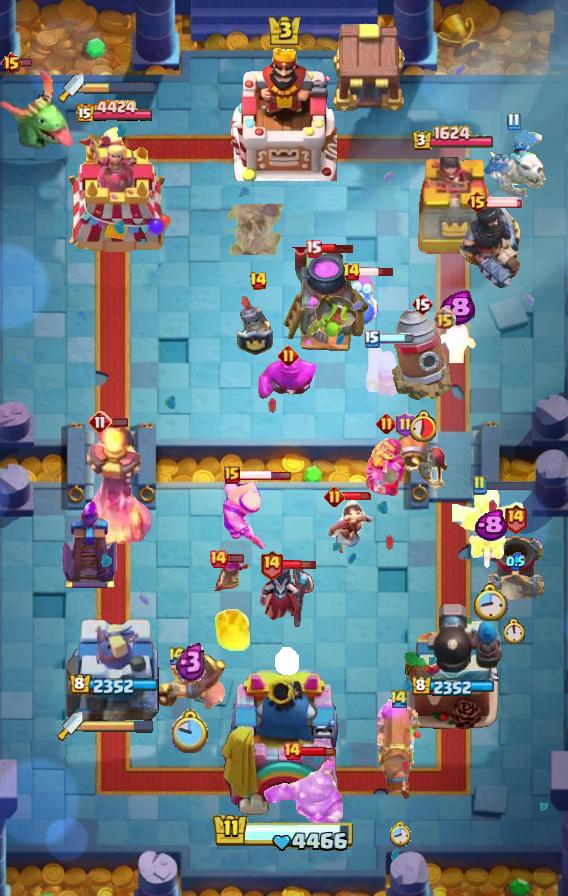arrows: (221, 479, 266, 550)
bar: (55, 126, 173, 256), (66, 611, 162, 731)
bar-level: (305, 293, 359, 341)
bat: (436, 323, 478, 363)
battle-healer: (376, 698, 422, 802)
bomb: (330, 20, 410, 114)
cannon: (210, 555, 250, 595)
clock: (212, 812, 356, 854)
electro-dragon: (77, 425, 155, 551)
electro-spirit: (439, 290, 475, 326), (177, 642, 207, 682), (473, 510, 507, 543), (507, 553, 526, 571)
electro-wizard: (0, 68, 76, 154)
elixir: (172, 709, 210, 753), (472, 583, 508, 621), (408, 410, 436, 442), (275, 647, 299, 675), (388, 821, 411, 848), (504, 618, 526, 644)
emote: (484, 480, 536, 493), (238, 470, 292, 482), (282, 557, 318, 570), (486, 196, 524, 208), (358, 266, 395, 278), (300, 745, 335, 757), (319, 243, 355, 254), (378, 332, 414, 343), (342, 491, 374, 501), (226, 553, 246, 564), (15, 56, 34, 67), (111, 416, 130, 427)
firecracker-evolution: (363, 435, 409, 497)
fisherman: (226, 204, 285, 255)
freeze: (153, 652, 229, 714)
hunter: (280, 247, 370, 355)
ice-golem: (343, 275, 379, 327)
ice-spirit-evolution-symbol: (60, 498, 120, 590)
inferno-dragon: (457, 203, 525, 295)
king-tower: (219, 670, 349, 826), (231, 45, 337, 181)
king-tower-bar: (84, 81, 156, 95), (83, 719, 155, 733)
knight: (395, 429, 449, 493)
magic-archer: (392, 307, 452, 401)
mini-pekka: (452, 482, 528, 572), (479, 129, 547, 203)
musketeer: (483, 535, 547, 601)
princess: (235, 296, 281, 358)
queen-tower: (410, 154, 496, 256)
rascal-boy: (258, 560, 316, 630)
royal-guardian: (264, 755, 344, 847)
selected: (411, 125, 495, 152), (69, 674, 159, 698), (74, 99, 154, 125), (411, 676, 495, 698)
skeleton-dragon: (325, 497, 377, 555)
text: (259, 548, 284, 579), (504, 503, 529, 533), (88, 410, 112, 434), (1, 51, 24, 75), (466, 190, 489, 214), (396, 412, 417, 438), (432, 307, 455, 330), (411, 292, 433, 316), (277, 345, 298, 366), (375, 413, 396, 434), (323, 485, 344, 506), (167, 645, 187, 667), (389, 687, 409, 709), (208, 549, 228, 569), (282, 741, 302, 761), (342, 262, 361, 282), (248, 271, 267, 291), (305, 239, 323, 258), (471, 475, 487, 495), (364, 330, 380, 348), (224, 466, 240, 484), (507, 113, 522, 132)
tombstone: (364, 341, 406, 399)
tornado: (257, 355, 319, 401)
tower-bar: (403, 601, 503, 731)
valkyrie: (212, 605, 252, 653)
